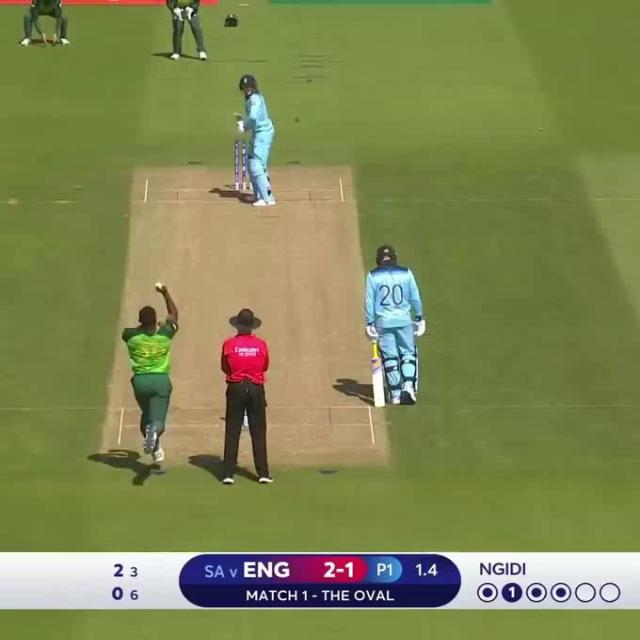bat: (371, 357, 386, 407), (234, 110, 243, 123)
toe: (373, 403, 386, 408)
